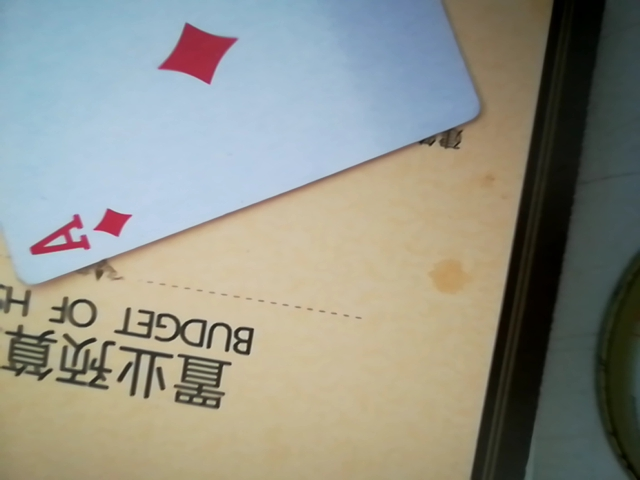fk a: (2, 3, 482, 280)
